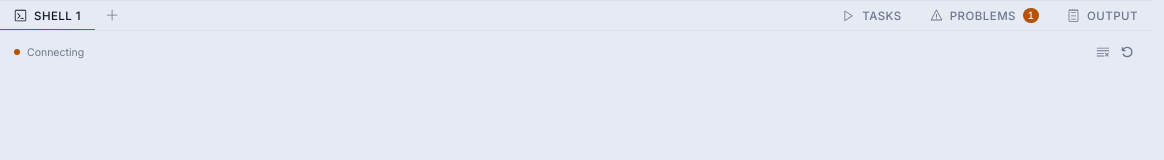
the Problems tab › shows the panel when its tab is selected
Click the tab "Problems 1": [984, 16] box left=930, top=8, right=1039, bottom=23
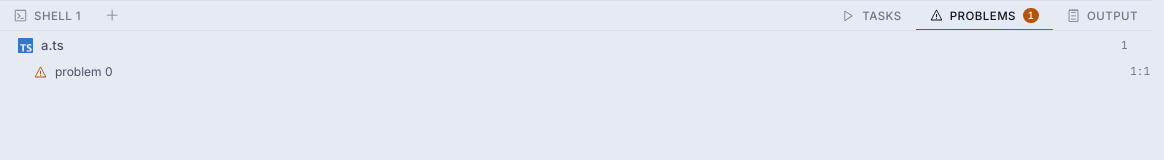
Check: the text "problem 0" is shown, box left=55, top=64, right=113, bottom=79
